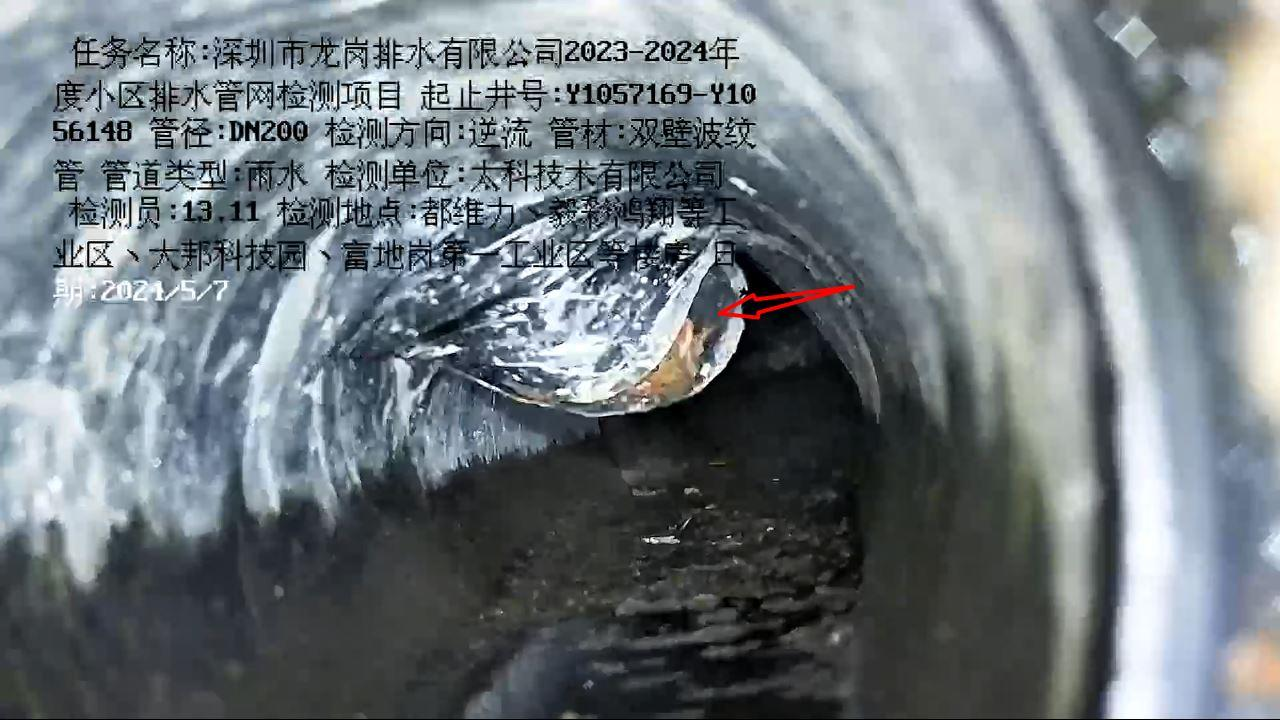PL: (477, 257, 799, 421)
